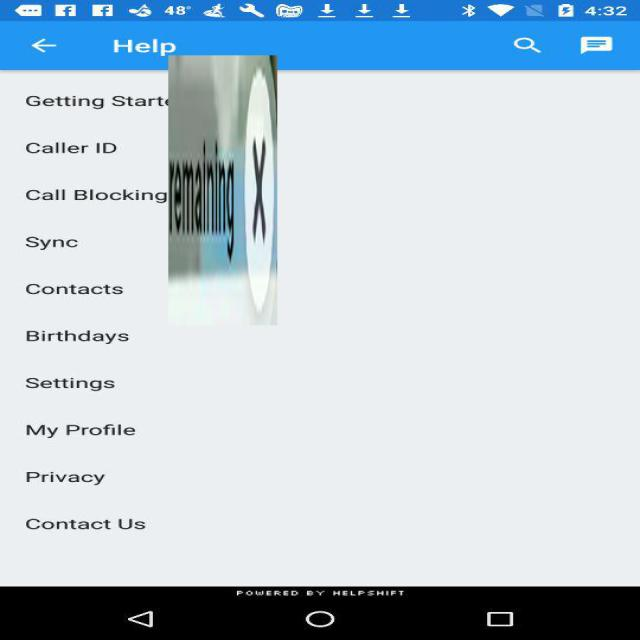misdirection: (168, 56, 278, 326)
